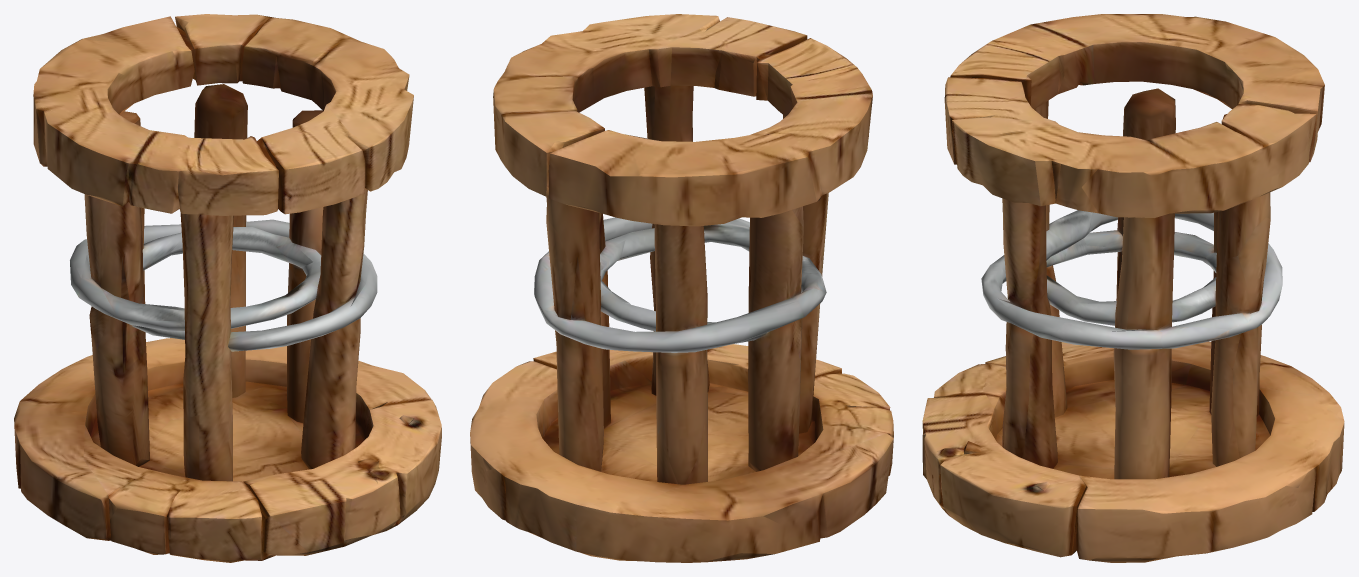
File: m2GrappleRingPost.glb
3 renders of one model, left to right at view 1: azimuth 30°, elevation 25°; view 2: azimuth 150°, elevation 25°; view 3: azimuth 270°, elevation 25°, orthographic.
Parts seen in each view (by area): view 1: model; view 2: model; view 3: model.
Boxes of the visible parts, bbox=[...] form: model: bbox=[14, 14, 441, 562]; model: bbox=[470, 14, 893, 562]; model: bbox=[922, 14, 1344, 562].
Bounding box in the file's own units: 1.87 × 1.89 × 1.88.
Materials: 1 (1 with a texture image).
